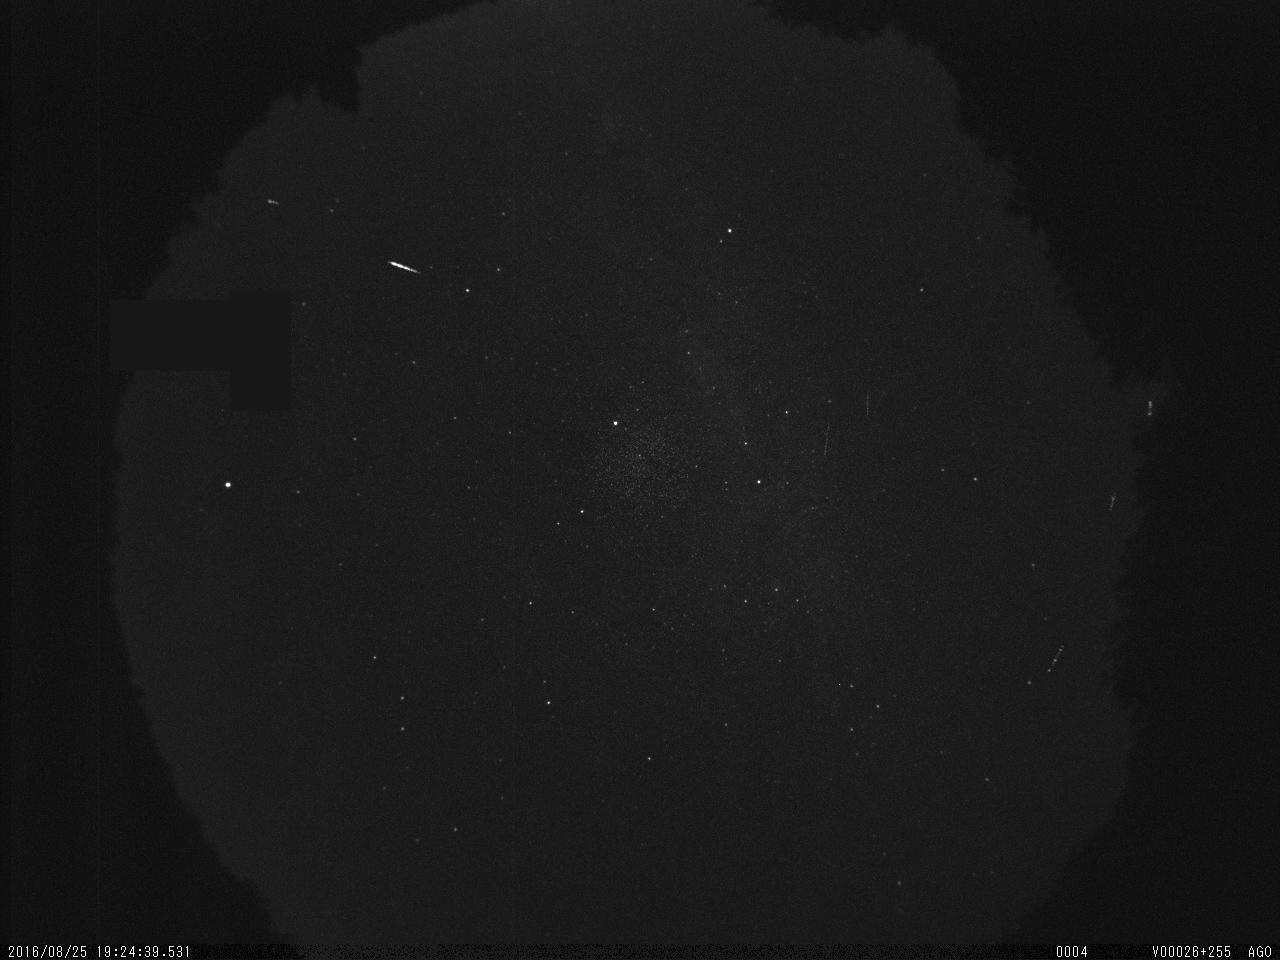meteor: (384, 254, 429, 285)
